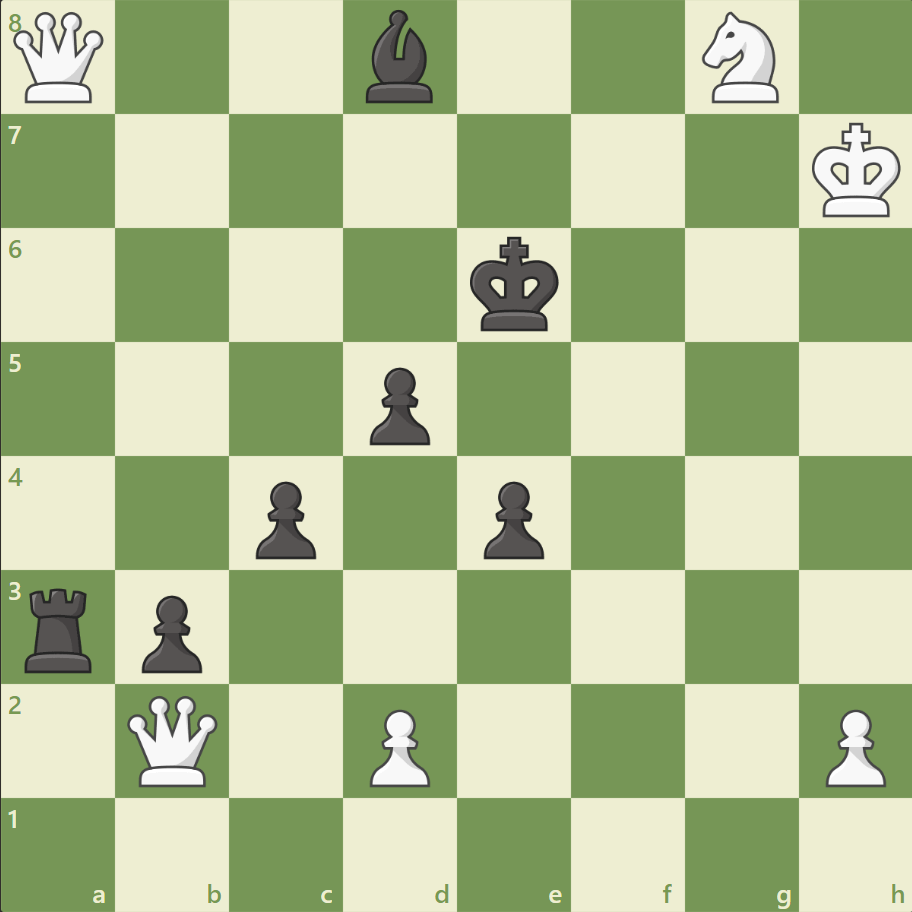K: (806, 117, 906, 225)
N: (692, 7, 789, 110)
P: (361, 700, 435, 791), (815, 700, 889, 791)
Q: (10, 9, 109, 108), (124, 690, 223, 789)
b: (358, 6, 442, 109)
k: (465, 231, 565, 339)
p: (247, 473, 322, 564), (474, 473, 549, 564), (133, 586, 208, 677), (361, 359, 435, 450)
r: (19, 579, 102, 676)
